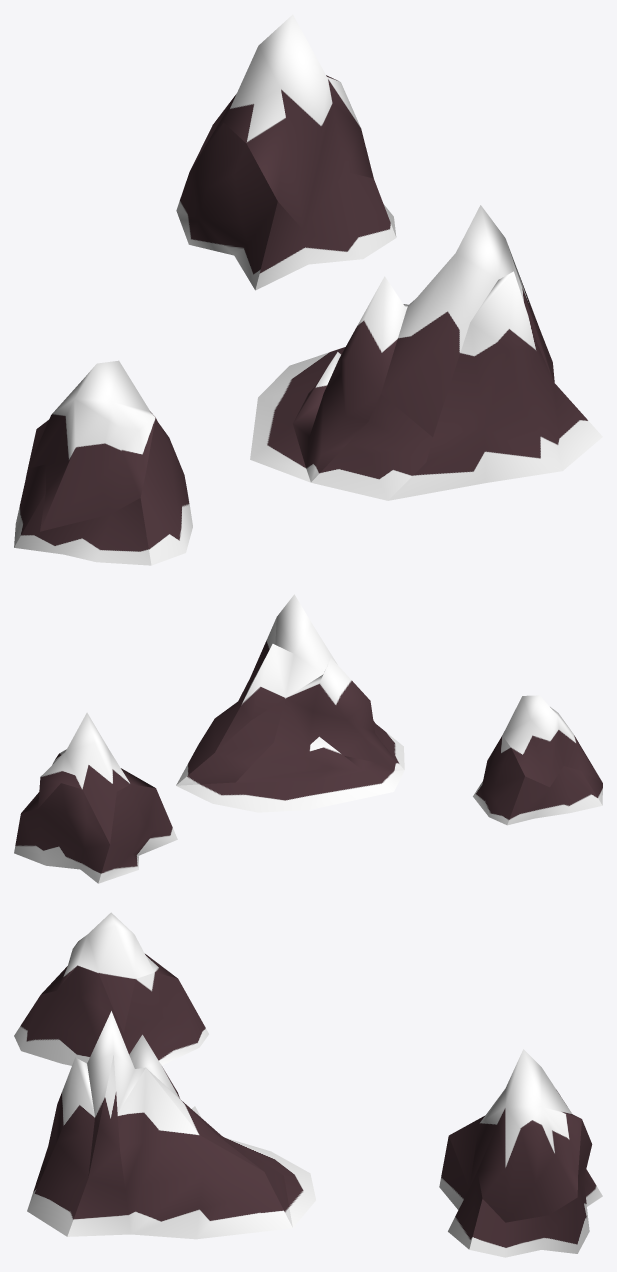
Rendered from snow mountain.fbx.
3 renders of one model, top to bottom at view 1: azimuth 30°, elevation 25°; view 2: azimuth 150°, elevation 25°; view 3: azimuth 270°, elevation 25°, orthographic. The views are drawn at different scales.
Visible parts, largest first — view 1: snow_mountain_1, snow_mountain_2, snow_mountain_3; view 2: snow_mountain_1, snow_mountain_2, snow_mountain_3; view 3: snow_mountain_1, snow_mountain_2, snow_mountain_3.
Part boxes in pixels (<box>): snow_mountain_1: <box>250,205,602,500</box>; snow_mountain_2: <box>176,14,396,290</box>; snow_mountain_3: <box>14,360,192,565</box>; snow_mountain_1: <box>176,594,404,812</box>; snow_mountain_2: <box>14,712,177,883</box>; snow_mountain_3: <box>473,695,602,825</box>; snow_mountain_1: <box>27,1011,315,1239</box>; snow_mountain_2: <box>439,1049,602,1257</box>; snow_mountain_3: <box>14,912,208,1065</box>.
Bounding box in the file's own units: 22.24 × 7.9 × 22.3.
Materials: 1 (1 with a texture image).
